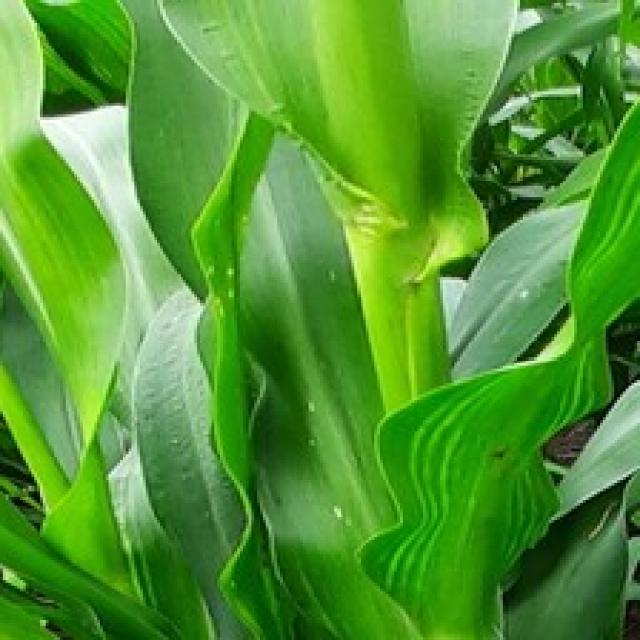Corn: (0, 0, 637, 637), (354, 3, 637, 637), (100, 0, 523, 300), (0, 0, 129, 486)
